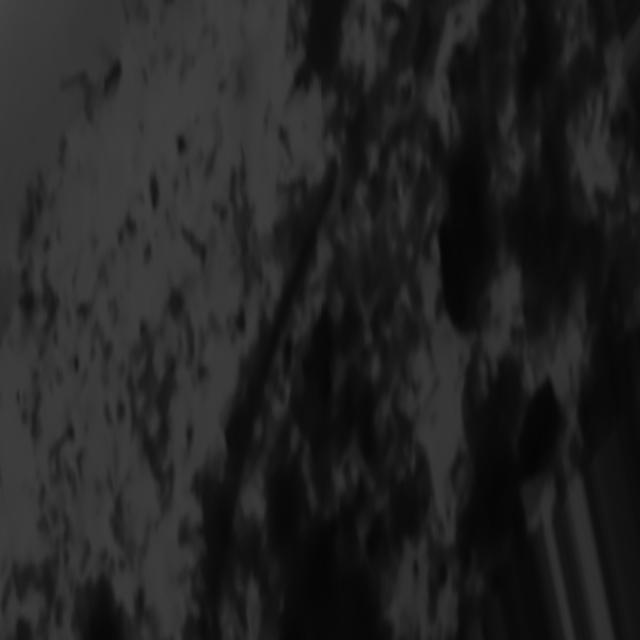larvas: (65, 58, 119, 119)
